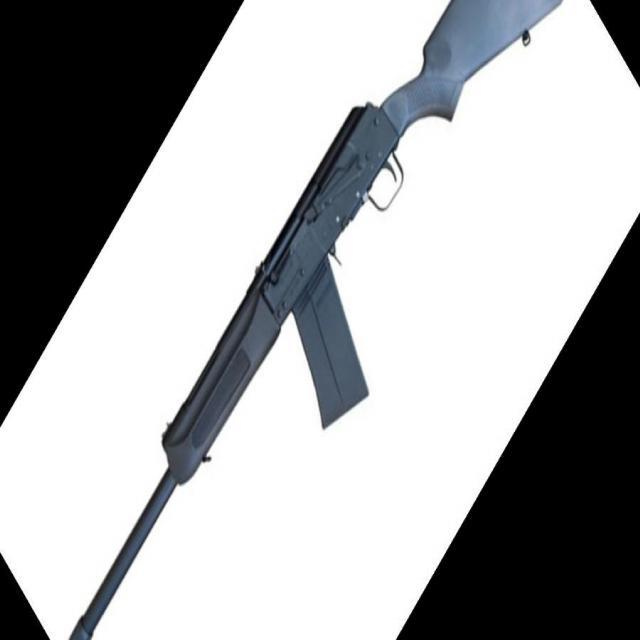weapon: (69, 0, 563, 640)
